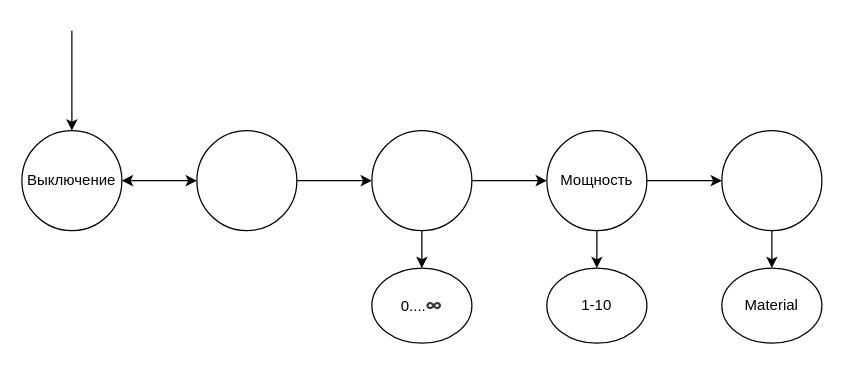
Some shapes in this 844 by 365 pixel diagram are drawn without their labels. The centre of each missing label's shape, as x and y in pixels:
Включение: (246,180)
Глубина гравировки: (421,180)
Материал: (771,180)
